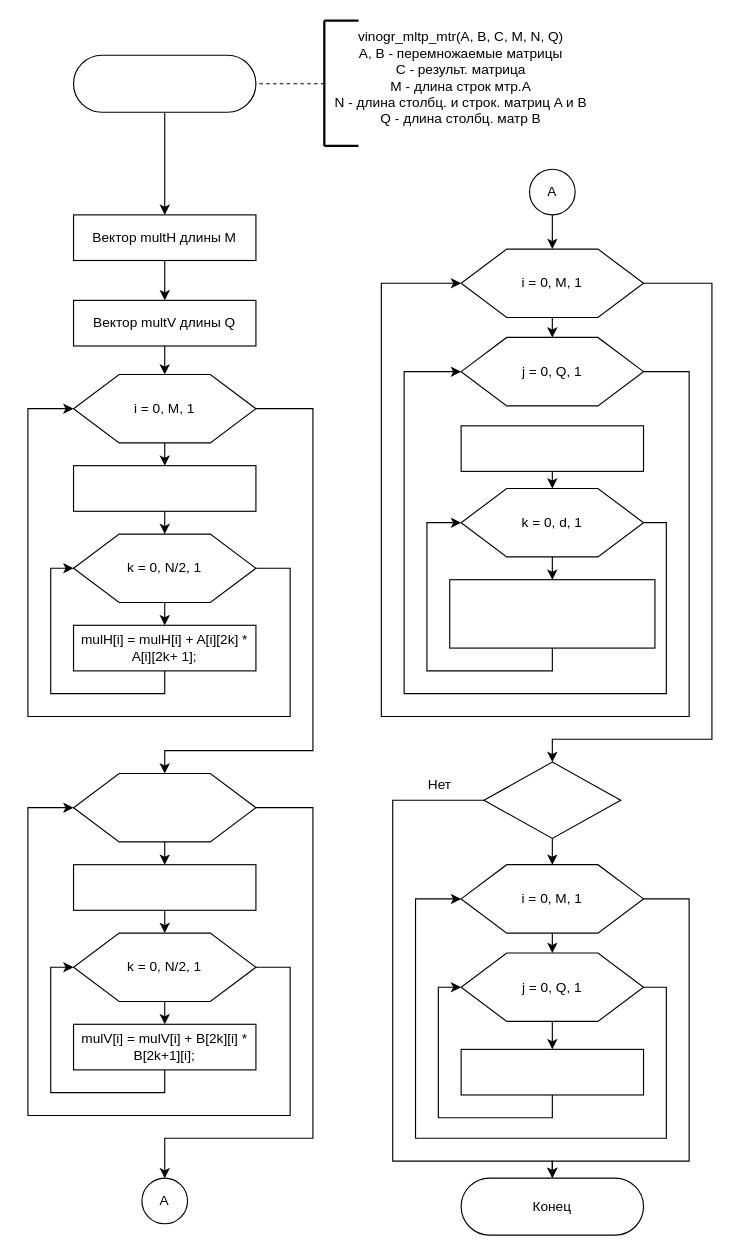
The diagram is 741 pixels wide and 1255 high, and some of its shapes have lost their labels. Here are the shapes that lost their labels. From the top down, the centre of each, then its label:
pixel 164 83: Начало
pixel 552 448: C[i][j] = C[i][j] - mulH[i] - mulV[j]
pixel 164 488: mulH[i] = 0;
pixel 552 613: C[i][j] = C[i][j] + (A[I][2k] + B[2k + 1][j] ) * (A[I][2k + 1] +B[2k][j] )
pixel 164 807: i = 0, Q, 1
pixel 552 799: N mod 2 = 1?
pixel 164 887: mulV[i] = 0;
pixel 552 1071: C[i][j] = C[i][j] + A[I][N - 1] * B[N - 1][j]
